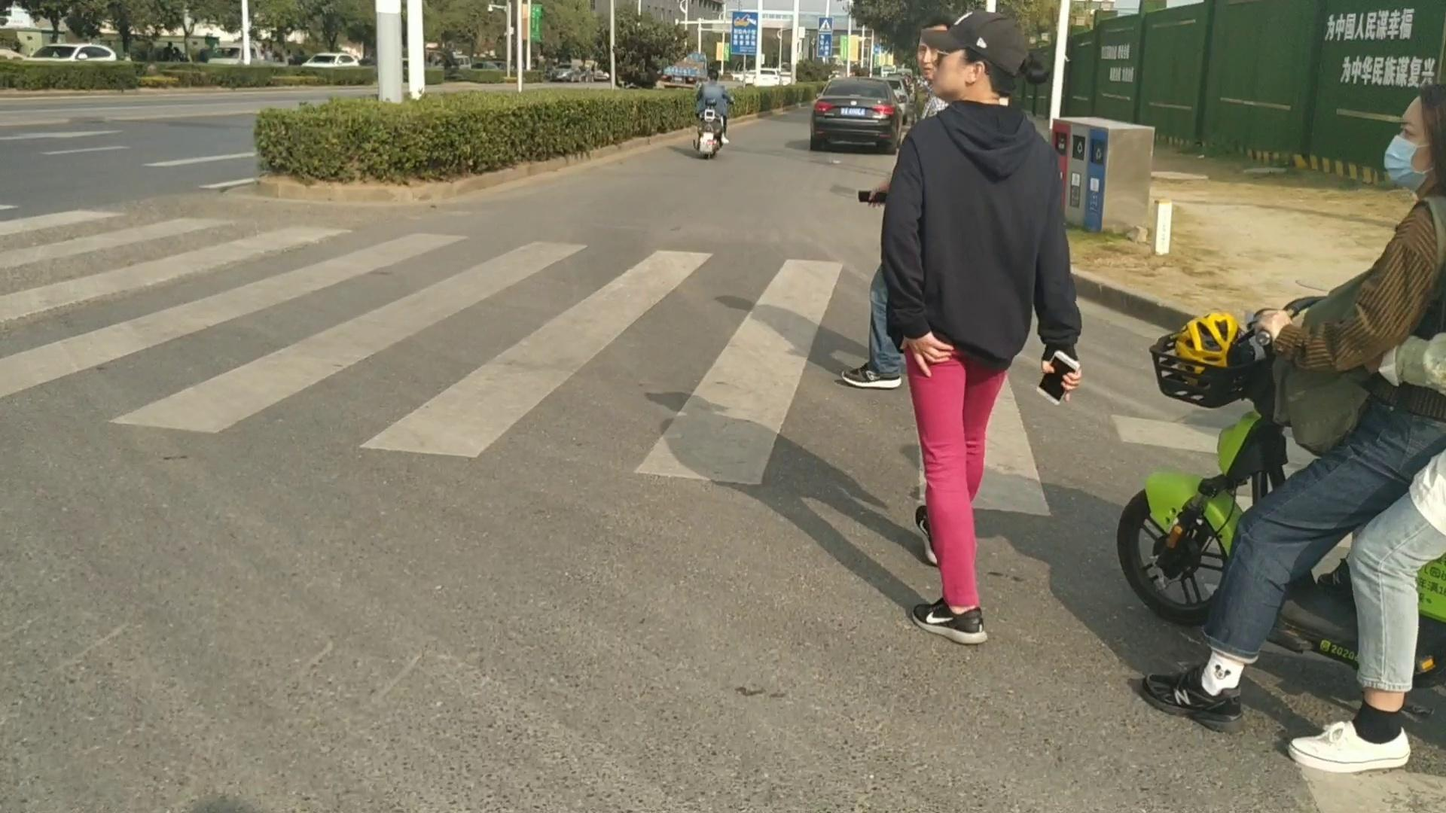car: (810, 77, 903, 152), (26, 41, 119, 62), (657, 59, 707, 85), (297, 50, 362, 69)
